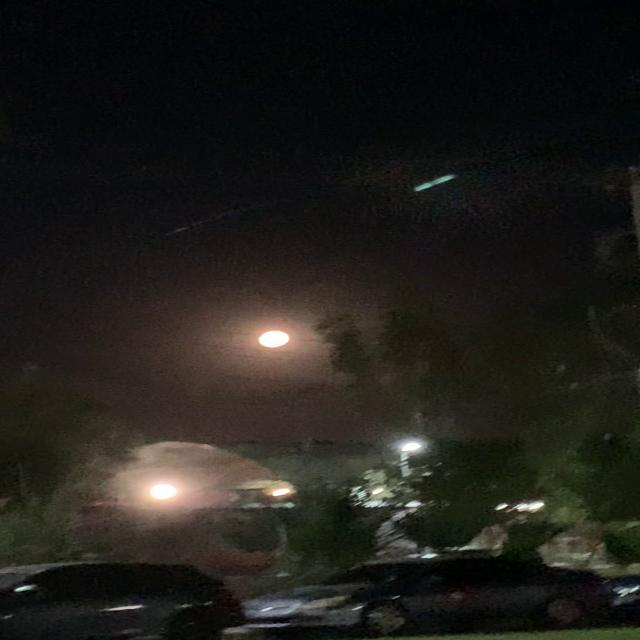moon: (260, 320, 314, 346)
